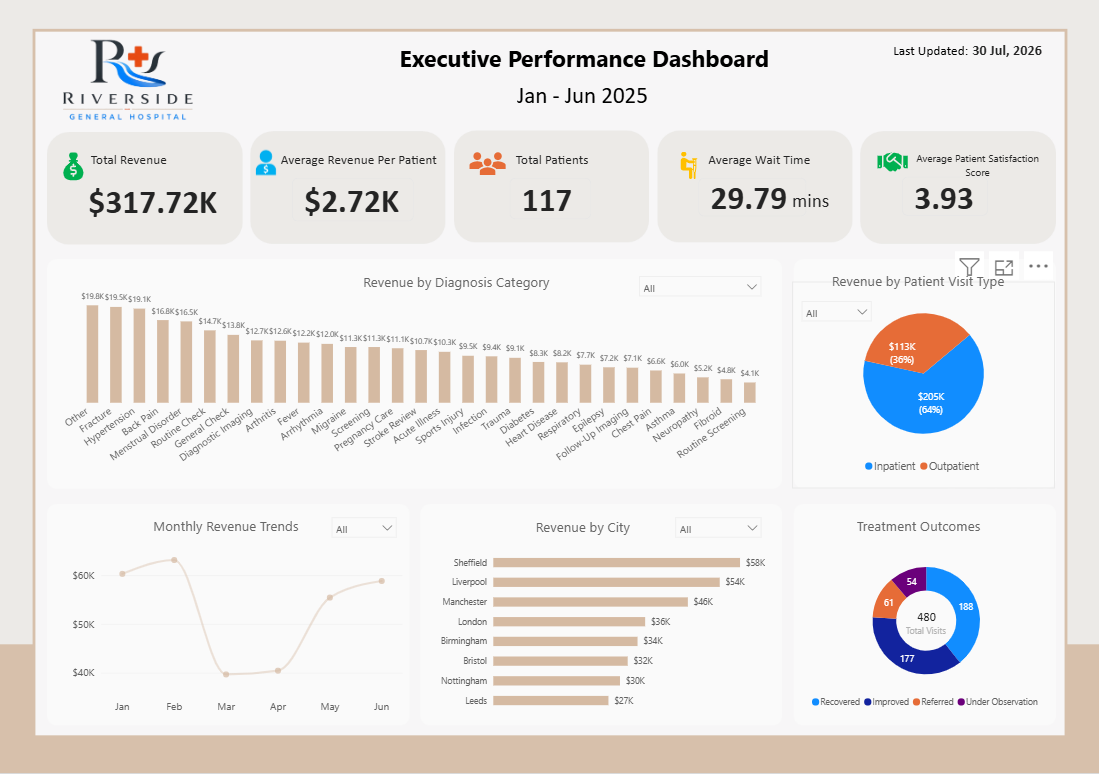

Layout of this report page (visuals, bound fields, positions):
{"tool":"powerbi","page":{"name":"Page 1","canvas":[1920,1080],"ordinal":0},"visuals":[{"type":"cardVisual","fields":{"Data":["DAX Measures.Total Revenue"]},"box":[300,248.6,212.9,65.7],"z":0},{"type":"cardVisual","fields":{"Data":["DAX Measures.Average Revenue Per Patient"]},"box":[600,248.6,170,61.4],"z":1000},{"type":"cardVisual","fields":{"Data":["DAX Measures.Total Patients"]},"box":[902.9,248.6,114.3,58.6],"z":2000},{"type":"cardVisual","fields":{"Data":["DAX Measures.Average Wait Time"]},"box":[1167.1,248.6,151.4,54.3],"z":3000},{"type":"cardVisual","fields":{"Data":["DAX Measures.Average Patient Satisfaction Score"]},"box":[1451.4,247.1,120,55.7],"z":4000},{"type":"lineChart","fields":{"Category":["Date Table.Month Name"],"Y":["DAX Measures.Total Revenue"]},"box":[277.1,745.7,492.9,271.4],"z":5000},{"type":"columnChart","fields":{"Category":["Riverside General Hospital.DiagnosisCategory"],"Y":["DAX Measures.Total Revenue"]},"box":[262.9,381.4,1012.9,300],"z":6000},{"type":"donutChart","fields":{"Category":["Riverside General Hospital.Outcome"],"Y":["DAX Measures.Total Visits"]},"box":[1307.1,754.3,357.1,257.1],"z":7000},{"type":"pieChart","fields":{"Category":["Riverside General Hospital.VisitType"],"Y":["DAX Measures.Total Revenue"]},"box":[1297.1,394.3,367.1,288.6],"z":8000},{"type":"barChart","fields":{"Category":["Dim_Patients.City"],"Y":["DAX Measures.Total Revenue"]},"box":[785,746.2,491.2,266.2],"z":9000},{"type":"textbox","box":[700,382,300,46],"z":10000},{"type":"textbox","box":[940.3,724.2,154.8,30.6],"z":11000},{"type":"textbox","box":[407.1,721.4,230,32.9],"z":12000},{"type":"textbox","box":[1353.2,380.6,252.9,37.1],"z":13000},{"type":"textbox","box":[1388.6,722.9,194.3,31.4],"z":14000},{"type":"image","box":[263.3,53.3,213.3,121.7],"z":15000},{"type":"cardVisual","fields":{"Data":["DAX Measures.Today's Date"]},"box":[1532.9,54.3,131.4,35.7],"z":16000,"group":"g1"},{"type":"image","box":[272.9,212.9,45.7,41.4],"z":16000},{"type":"textbox","box":[318.6,212.9,147.1,32.9],"z":17000},{"type":"textbox","box":[584.3,212.8,232,33.1],"z":18000},{"type":"textbox","box":[912.9,212.9,117.1,32.9],"z":19000},{"type":"textbox","box":[1180,212.9,158.6,32.9],"z":20000},{"type":"textbox","box":[1461.4,212.9,190,50],"z":21000},{"type":"image","box":[537.1,207.1,52.9,47.1],"z":22000},{"type":"image","box":[1414.3,212.9,47.1,28.6],"z":23000},{"type":"image","box":[1130,212.9,47.1,38.6],"z":24000},{"type":"image","box":[834.3,200,78.6,58.6],"z":25000},{"type":"group","id":"g1","title":"Group 1","box":[1438.6,54.3,225.7,35.7],"z":26000},{"type":"textbox","box":[1438.6,61.4,108.6,28.6],"z":27000,"group":"g1"},{"type":"textbox","box":[750,61.7,536,64],"z":27000},{"type":"slicer","fields":{"Values":["Date Table.Month Name"]},"box":[650,718.6,100,44.3],"z":28000},{"type":"slicer","fields":{"Values":["Dim_Patients.City"]},"box":[1130,718.6,130,35.7],"z":29000},{"type":"slicer","fields":{"Values":["Riverside General Hospital.DiagnosisCategory"]},"box":[1080,381.4,180,35.7],"z":30000},{"type":"slicer","fields":{"Values":["Dim_Patients.Gender"]},"box":[1307.1,417.1,107.1,41.4],"z":31000},{"type":"textbox","box":[913.3,115,198.3,50],"z":32000},{"type":"textbox","box":[1297.5,265,71.2,32.5],"z":33000},{"type":"textbox","box":[1456.7,870,65,20],"z":34000},{"type":"cardVisual","fields":{"Data":["DAX Measures.Total Visits"]},"box":[1456.7,843.3,65,36.7],"z":36000}]}

Visuals, with their boxes on the page's 1920x1080 design canvas (x1, y1, x2, y2). These are canvas units, not pixel positions in the 1099x774 screenshot, which may show the page scaled, cropped or inside an application window:
cardVisual - DAX Measures.Total Revenue: locate(300, 249, 513, 314)
cardVisual - DAX Measures.Average Revenue Per Patient: locate(600, 249, 770, 310)
cardVisual - DAX Measures.Total Patients: locate(903, 249, 1017, 307)
cardVisual - DAX Measures.Average Wait Time: locate(1167, 249, 1318, 303)
cardVisual - DAX Measures.Average Patient Satisfaction Score: locate(1451, 247, 1571, 303)
lineChart - Date Table.Month Name x DAX Measures.Total Revenue: locate(277, 746, 770, 1017)
columnChart - Riverside General Hospital.DiagnosisCategory x DAX Measures.Total Revenue: locate(263, 381, 1276, 681)
donutChart - Riverside General Hospital.Outcome x DAX Measures.Total Visits: locate(1307, 754, 1664, 1011)
pieChart - Riverside General Hospital.VisitType x DAX Measures.Total Revenue: locate(1297, 394, 1664, 683)
barChart - Dim_Patients.City x DAX Measures.Total Revenue: locate(785, 746, 1276, 1012)
textbox: locate(700, 382, 1000, 428)
textbox: locate(940, 724, 1095, 755)
textbox: locate(407, 721, 637, 754)
textbox: locate(1353, 381, 1606, 418)
textbox: locate(1389, 723, 1583, 754)
image: locate(263, 53, 477, 175)
cardVisual - DAX Measures.Today's Date: locate(1533, 54, 1664, 90)
image: locate(273, 213, 319, 254)
textbox: locate(319, 213, 466, 246)
textbox: locate(584, 213, 816, 246)
textbox: locate(913, 213, 1030, 246)
textbox: locate(1180, 213, 1339, 246)
textbox: locate(1461, 213, 1651, 263)
image: locate(537, 207, 590, 254)
image: locate(1414, 213, 1461, 242)
image: locate(1130, 213, 1177, 252)
image: locate(834, 200, 913, 259)
"Group 1" group: locate(1439, 54, 1664, 90)
textbox: locate(1439, 61, 1547, 90)
textbox: locate(750, 62, 1286, 126)
slicer - Date Table.Month Name: locate(650, 719, 750, 763)
slicer - Dim_Patients.City: locate(1130, 719, 1260, 754)
slicer - Riverside General Hospital.DiagnosisCategory: locate(1080, 381, 1260, 417)
slicer - Dim_Patients.Gender: locate(1307, 417, 1414, 458)
textbox: locate(913, 115, 1112, 165)
textbox: locate(1298, 265, 1369, 298)
textbox: locate(1457, 870, 1522, 890)
cardVisual - DAX Measures.Total Visits: locate(1457, 843, 1522, 880)
